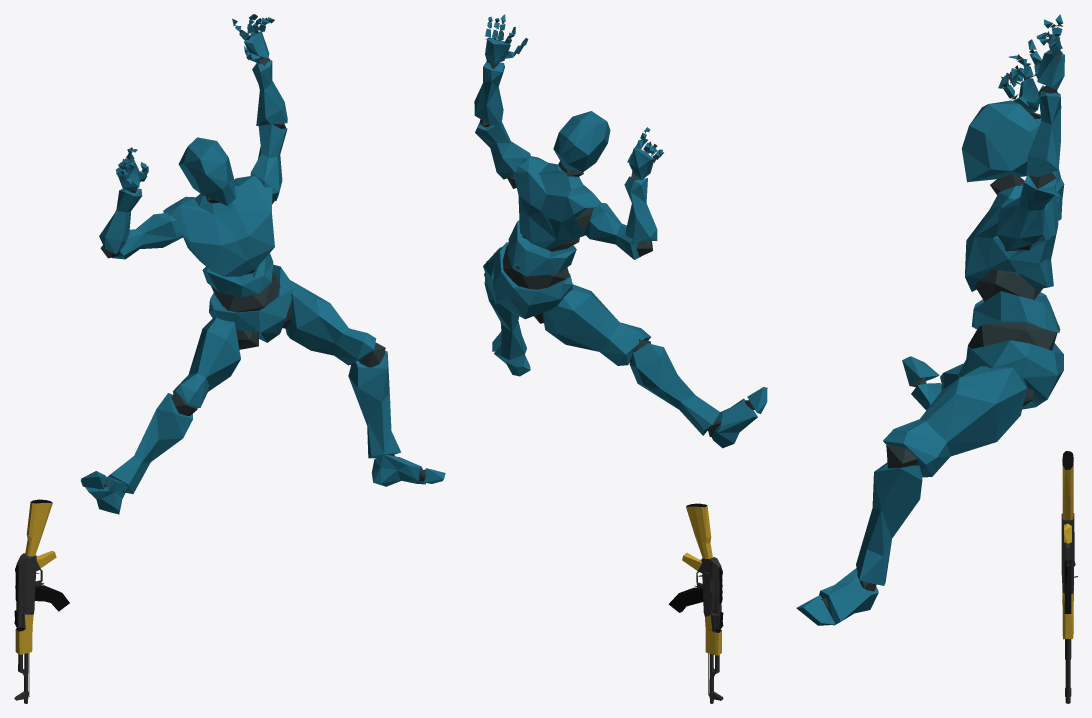
The model's file is EnemyDying_000108.obj.
The picture shows the model from 3 angles, left to right: view 1: azimuth 30°, elevation 25°; view 2: azimuth 150°, elevation 25°; view 3: azimuth 270°, elevation 25°; orthographic projection. The views are drawn at different scales.
Visible parts, largest first — view 1: Alpha_Surface, AK-47_Cube, Alpha_Joints; view 2: Alpha_Surface, AK-47_Cube, Alpha_Joints; view 3: Alpha_Surface, Alpha_Joints, AK-47_Cube.
Part boxes in pixels (x1,y1,x2,y2): Alpha_Surface: (80,14,445,514); AK-47_Cube: (14,499,69,703); Alpha_Joints: (97,15,426,492); Alpha_Surface: (474,14,767,448); AK-47_Cube: (668,503,723,703); Alpha_Joints: (480,20,754,436); Alpha_Surface: (796,14,1064,625); Alpha_Joints: (821,24,1062,609); AK-47_Cube: (1061,451,1077,703).
Bounding box in the file's own units: 291 × 538 × 167.
